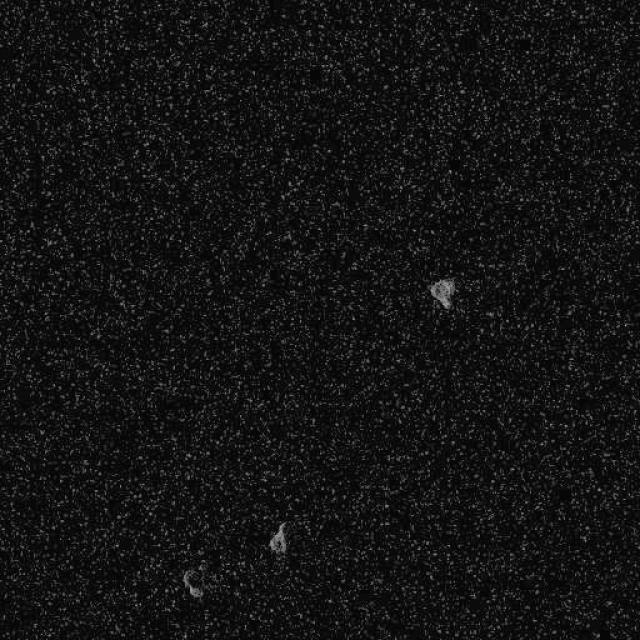D2: (427, 276, 455, 310), (268, 520, 288, 555), (181, 568, 204, 598)
